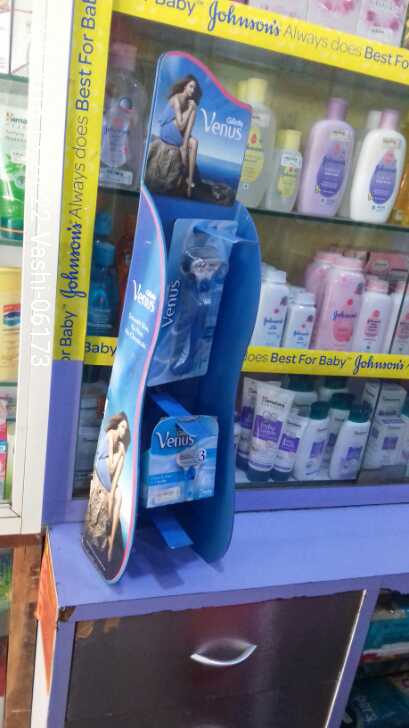beauty: (143, 410, 226, 518), (169, 217, 216, 383)
